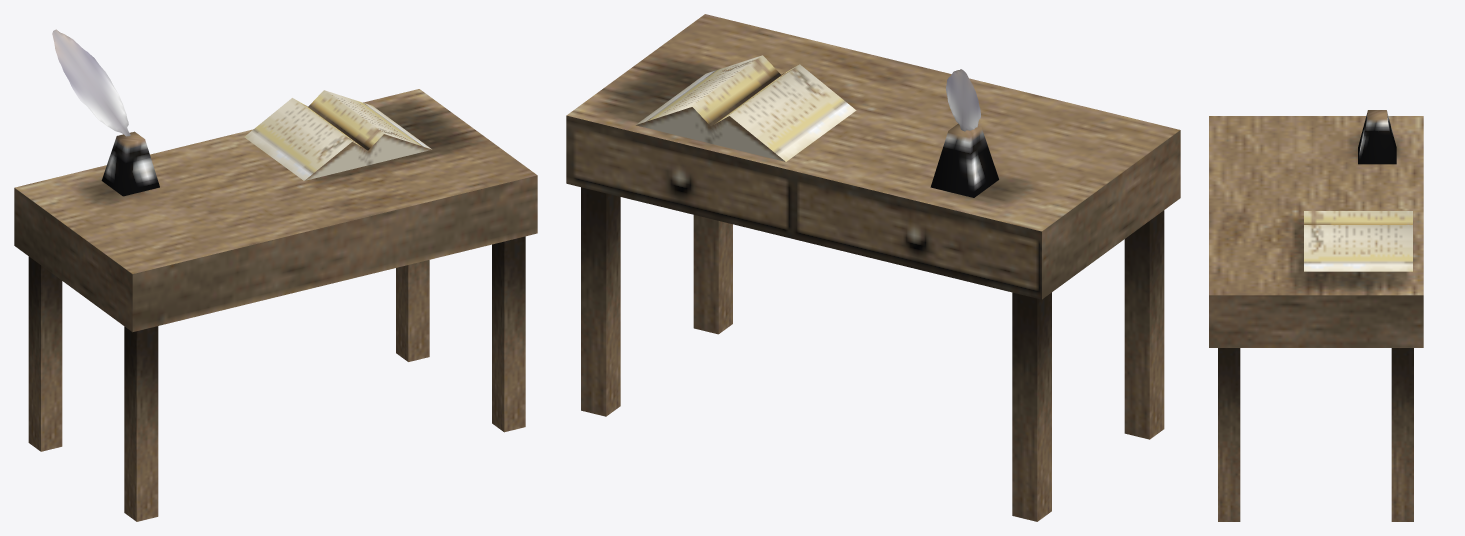
3 renders of one model, left to right at view 1: azimuth 30°, elevation 25°; view 2: azimuth 150°, elevation 25°; view 3: azimuth 270°, elevation 25°, orthographic. The views are drawn at different scales.
Parts seen in each view (by area): view 1: a81; view 2: a81; view 3: a81.
Part boxes in pixels (x1,y1,x2,y2): a81: (14,29,537,521); a81: (566,14,1180,521); a81: (1209,110,1423,521).
Bounding box in the file's own units: 379 × 358 × 216.
